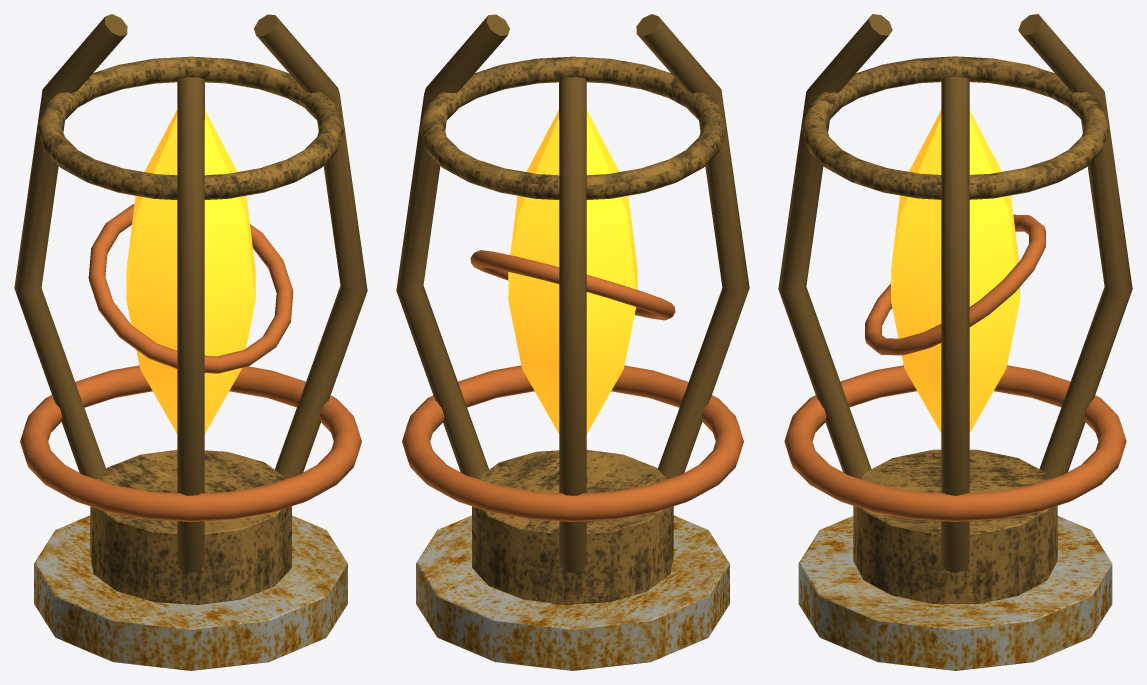
File: quest_resonator.glb
3 views of the same model, side by side, from view 1: azimuth 30°, elevation 25°; view 2: azimuth 150°, elevation 25°; view 3: azimuth 270°, elevation 25° (orthographic).
Visible parts, largest first — view 1: ResonatorCradle, SpireCrystal; view 2: ResonatorCradle, SpireCrystal; view 3: ResonatorCradle, SpireCrystal.
Boxes of the visible parts, x1=… form: ResonatorCradle: x1=14, y1=14, x2=367, y2=670; SpireCrystal: x1=88, y1=110, x2=293, y2=433; ResonatorCradle: x1=396, y1=14, x2=749, y2=670; SpireCrystal: x1=470, y1=110, x2=675, y2=433; ResonatorCradle: x1=778, y1=14, x2=1132, y2=670; SpireCrystal: x1=865, y1=110, x2=1045, y2=432.
Bounding box in the file's own units: 0.4759 × 0.8008 × 0.4515.
Materials: 4 (2 with a texture image).
